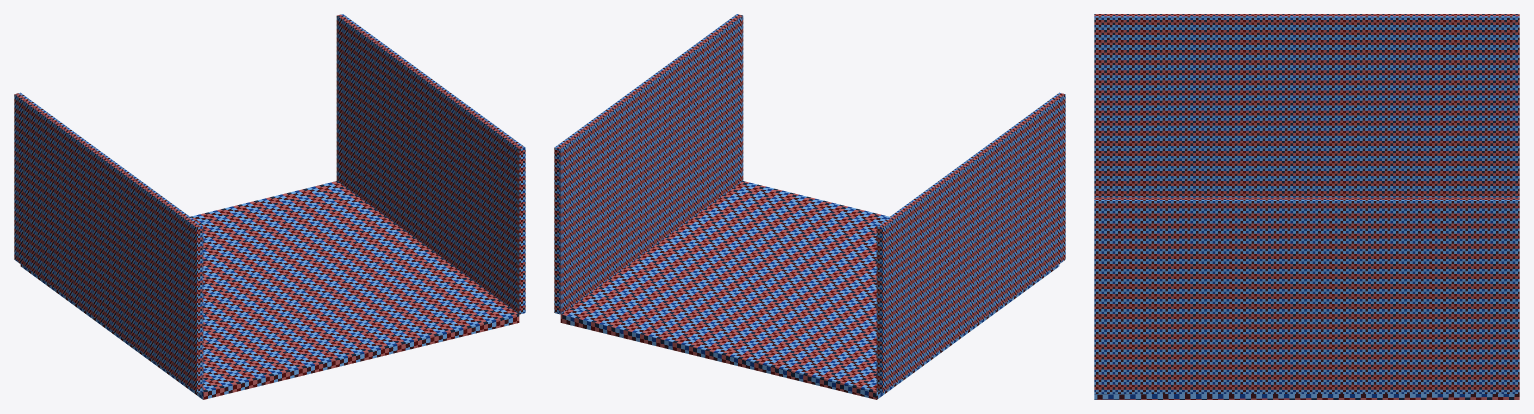
Rendered from SmallCat_Walk_rail_01.fbx.
3 views of the same model, side by side, from view 1: azimuth 30°, elevation 25°; view 2: azimuth 150°, elevation 25°; view 3: azimuth 270°, elevation 25° (orthographic). The views are drawn at different scales.
Visible parts, largest first — view 1: SmallCat_Walk_rail_01; view 2: SmallCat_Walk_rail_01; view 3: SmallCat_Walk_rail_01.
Boxes of the visible parts, box(x1,y1,x2,y2) form: SmallCat_Walk_rail_01: box(14, 14, 525, 399); SmallCat_Walk_rail_01: box(554, 14, 1065, 399); SmallCat_Walk_rail_01: box(1094, 14, 1519, 399).
Bounding box in the file's own units: 208 × 105 × 200.
1 material, 1 textured.
